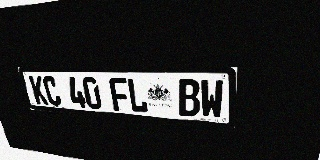0: (81, 77, 103, 109)
4: (66, 77, 87, 108)
B: (178, 79, 200, 117)
C: (42, 76, 62, 106)
F: (109, 77, 130, 112)
K: (29, 76, 49, 105)
L: (126, 78, 148, 113)
W: (200, 79, 224, 119)
